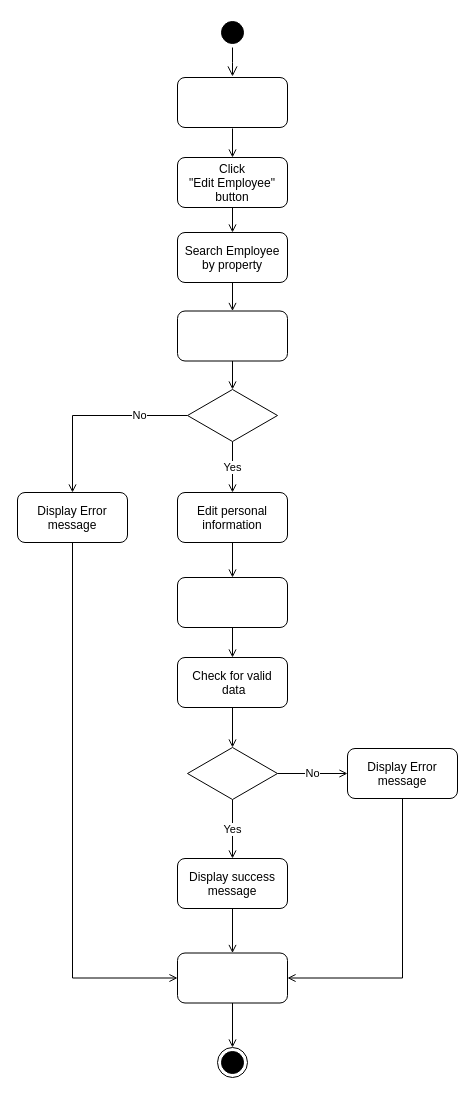
Image size: 475x1095. Some labels were removed from this diagram. Each missing label, with the centre of its shape:
Chek for presence: pixel 232 335
Click "Edit" buttton: pixel 232 102
Edit addittional information: pixel 232 602
Return to View page: pixel 232 977
